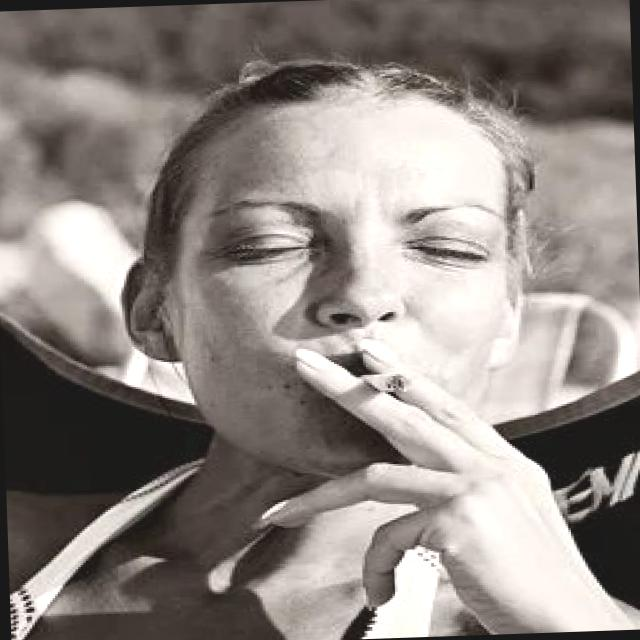smoke: (344, 367, 420, 398)
